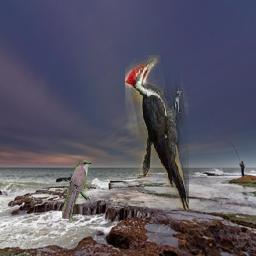Cuckoo: (63, 161, 92, 220)
Woodpecker: (125, 56, 189, 211)
